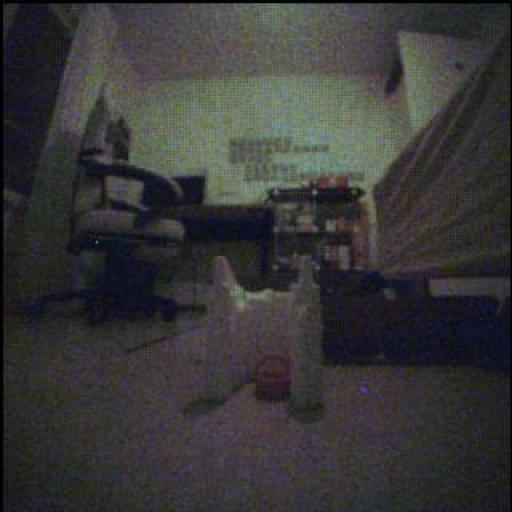basket: (257, 356, 291, 403)
